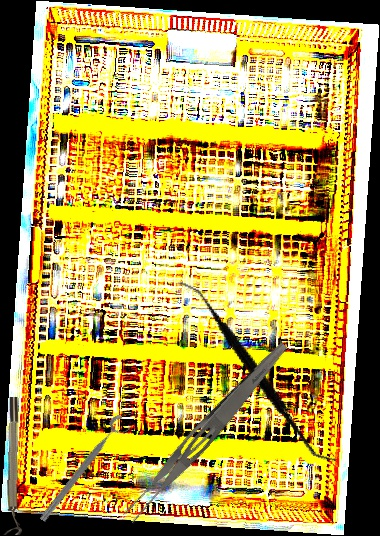Dressing Forceps: (118, 334, 292, 528)
Fixation Ring: (36, 413, 134, 529), (2, 396, 27, 536)
Spatula Surgical: (137, 278, 378, 464)
